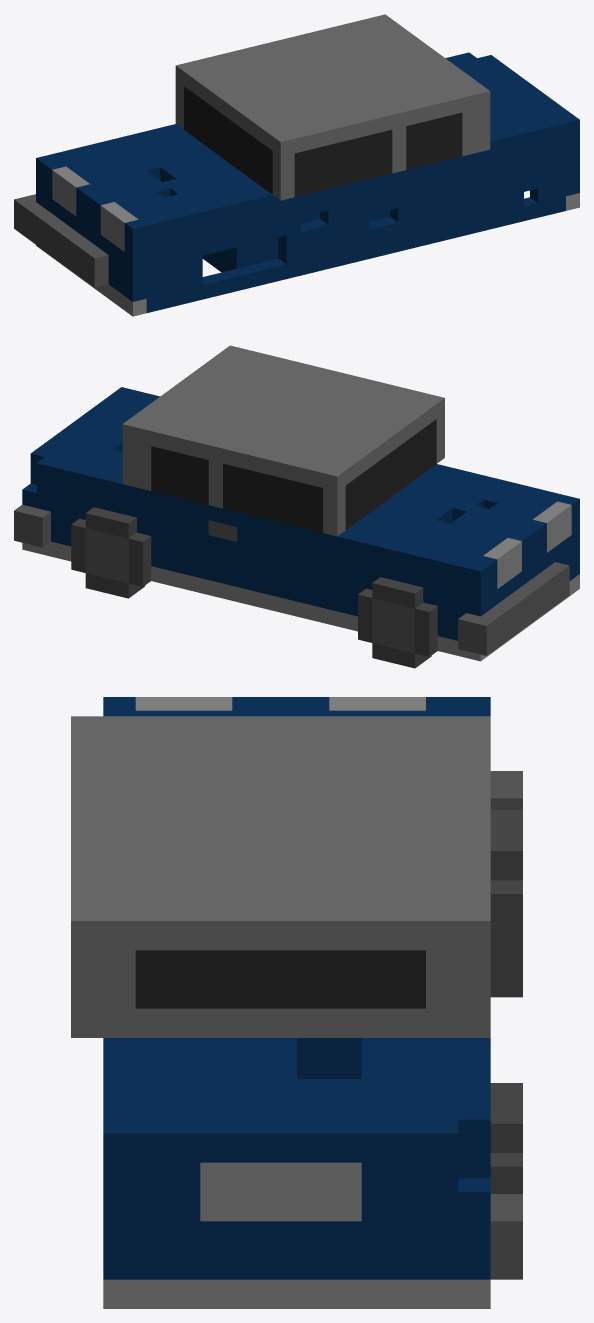
Rendered from voiture1bluedestroyed.obj.
3 renders of one model, top to bottom at view 1: azimuth 30°, elevation 25°; view 2: azimuth 150°, elevation 25°; view 3: azimuth 270°, elevation 25°, orthographic. The views are drawn at different scales.
Parts seen in each view (by area): view 1: voiture1bluedestroyed; view 2: voiture1bluedestroyed; view 3: voiture1bluedestroyed.
Part boxes in pixels (bbox=[...]): voiture1bluedestroyed: bbox=[14, 14, 579, 316]; voiture1bluedestroyed: bbox=[14, 345, 579, 668]; voiture1bluedestroyed: bbox=[71, 697, 522, 1308].
Size of the model in its own units: 33 by 11 by 14.
Materials: 1 (1 with a texture image).
